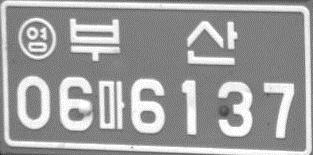0: (15, 73, 50, 130)
1: (170, 78, 206, 136)
3: (217, 80, 253, 138)
6: (129, 77, 166, 134), (57, 75, 93, 131)
7: (262, 81, 295, 138)
마: (97, 80, 125, 131)
부산_D: (69, 18, 239, 66)
영: (17, 16, 57, 61)
